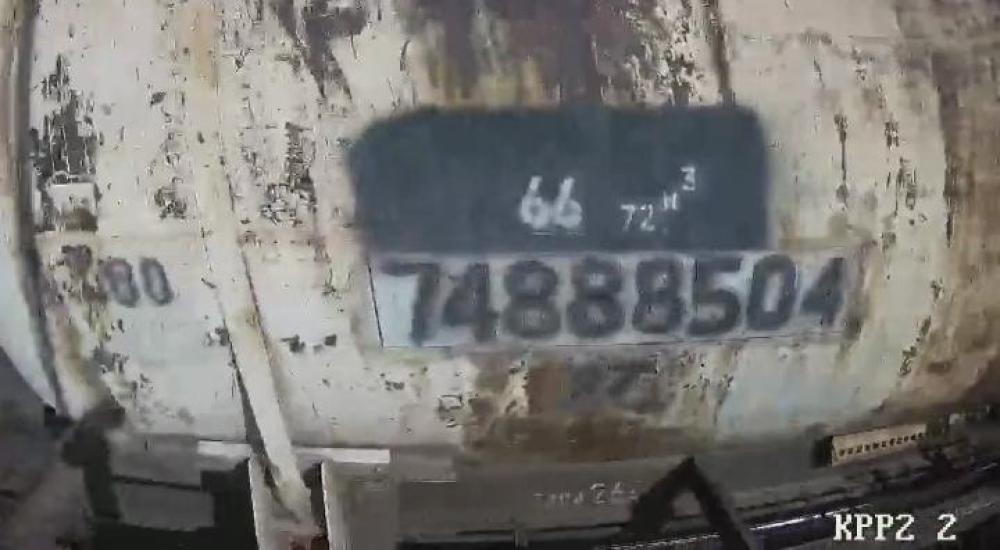Wagon-number: (383, 252, 846, 343)
